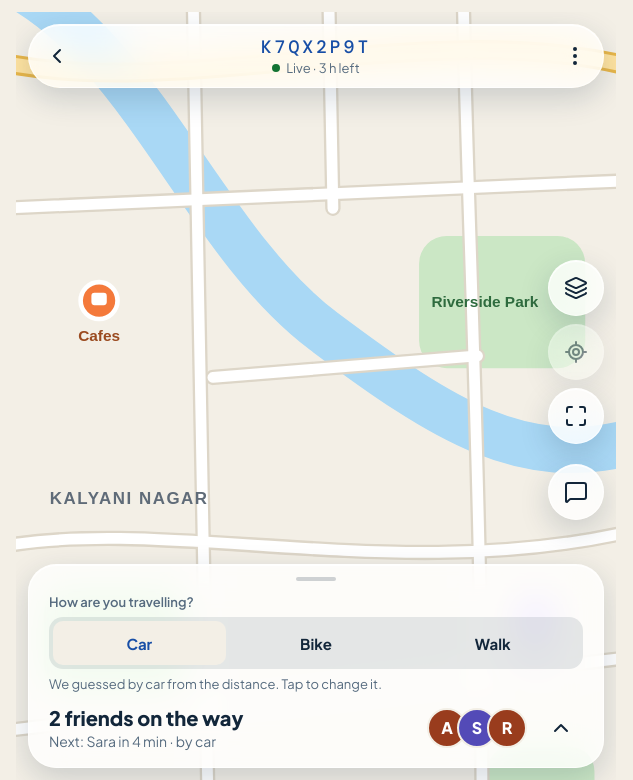
Scenario: Live map, ETAs and arrivals › lists who’s on the way, soonest first and arrivals last, on the same connection
The width and height of the screenshot is (633, 780).
Check: the text "K7QX2P9T" is shown, box [261, 35, 371, 59]
Click the link named "Who’s on the way": x=561, y=728 [549, 716, 573, 740]
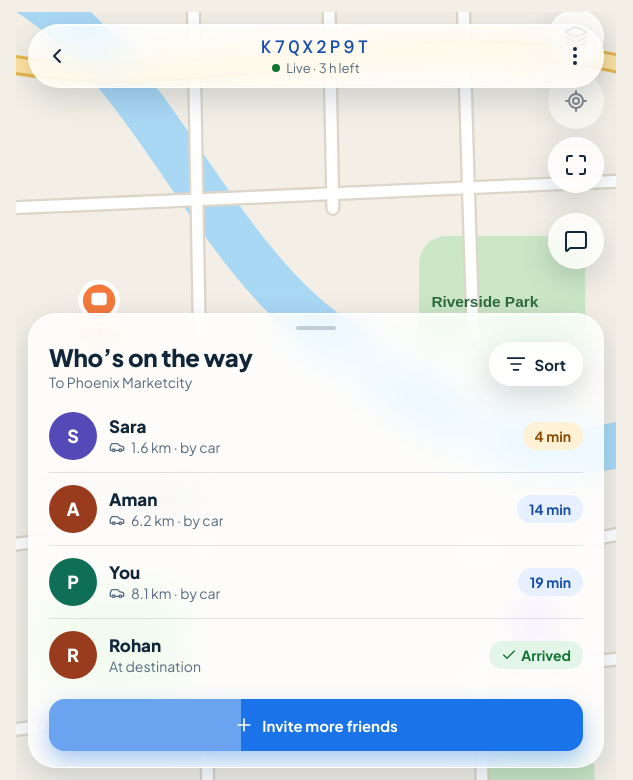
Check: the heading "Who’s on the way" is shown, box [49, 342, 252, 372]
Check: the text "To Phoenix Marketcity" is shown, box [49, 373, 192, 391]
Check: the list items read "SSara1.6 km · by carArrives in 4 min", "AAman6.2 km · by carArrives in 14 min", "PYou8.1 km · by carArrives in 19 min", "RRohanAt destinationArrived", in this order, box [49, 400, 583, 473]; [49, 473, 583, 546]; [49, 546, 583, 619]; [49, 619, 583, 691]
Click the button with aria-label "Sort by name": x=536, y=364 [490, 342, 583, 386]
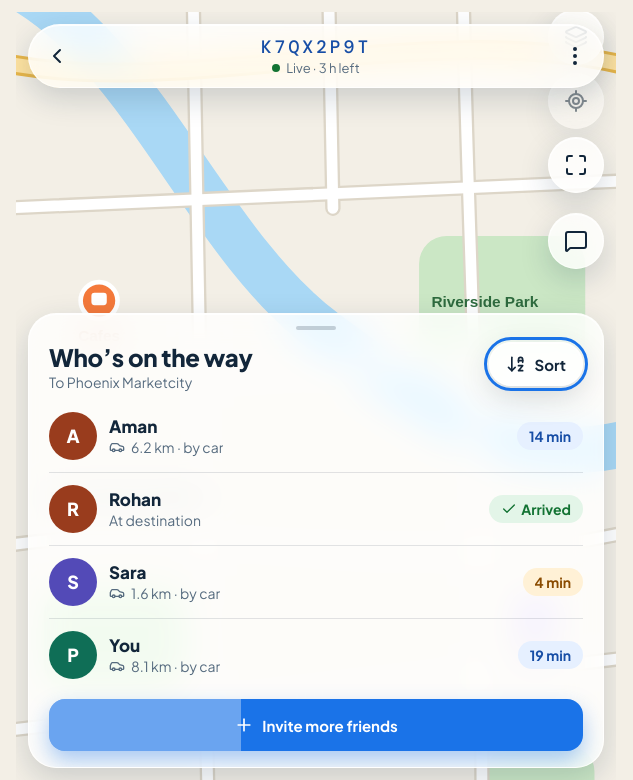
Click the link named "Back to the map": x=57, y=56 [45, 44, 69, 68]
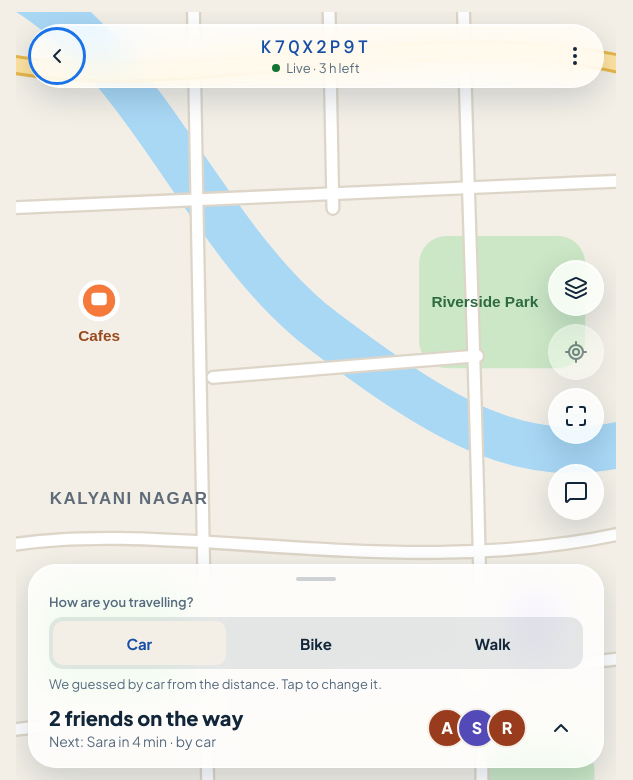
Check: the heading "2 friends on the way" is shown, box [49, 705, 244, 730]
